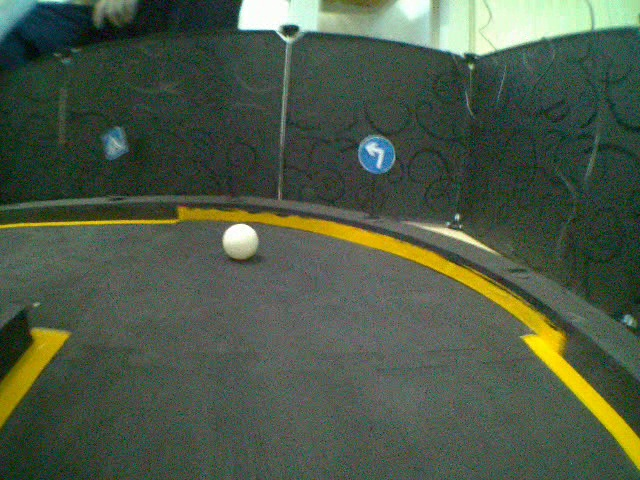ball: (221, 220, 262, 262)
